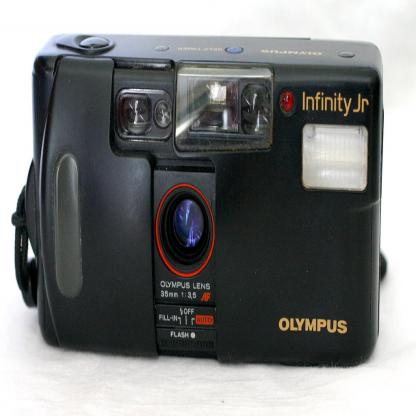Camera: (4, 14, 385, 381)
